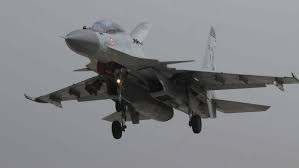maybay_muctieu: (36, 23, 295, 144)
